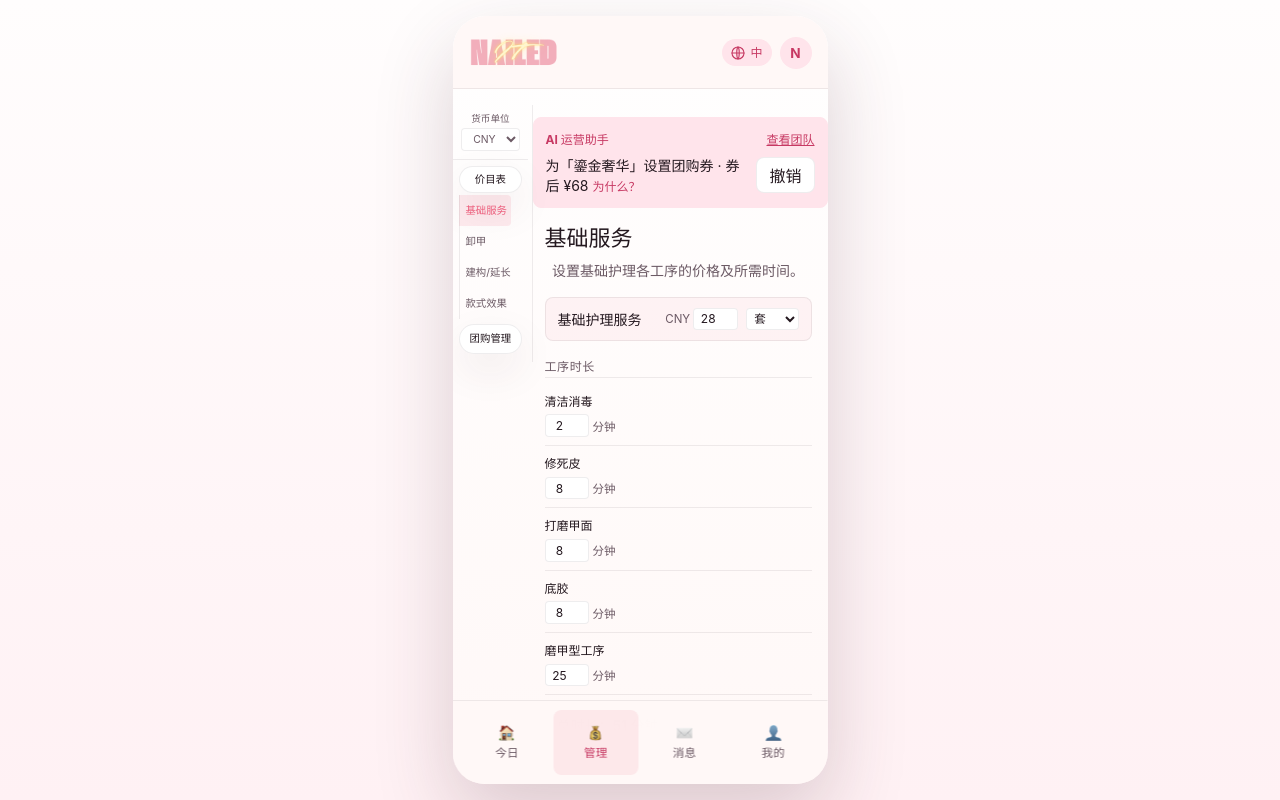
Test: MerchantManagePage › renders the pricing panels and saves changes to the DB
This screenshot has width=1280, height=800.
Expected: the heading "基础服务" is shown, [544,225,632,251]
Note: Edit the base service price, then save from the preview panel (prices persist to merchant_pricing).
Replace the text in the number field named "基础护理服务 单价" with "12" at (716, 319), box [693,308,738,330]
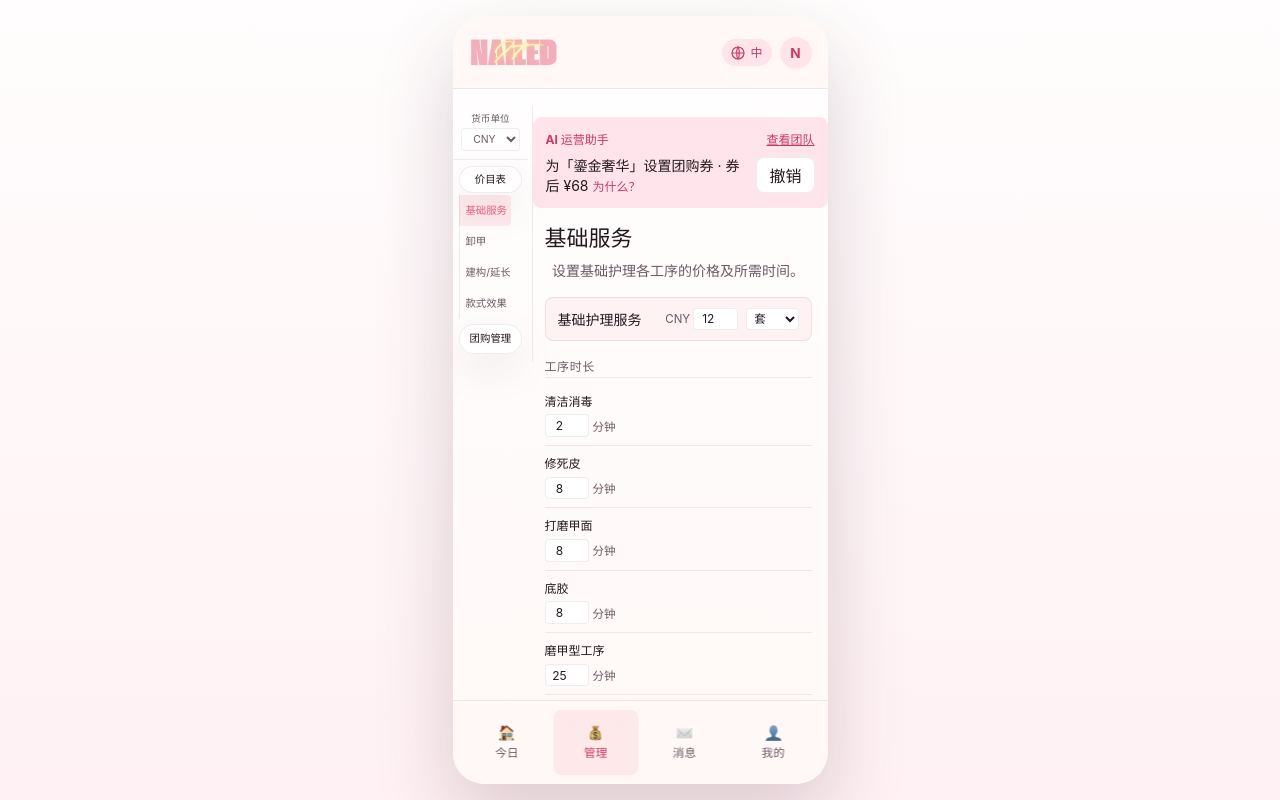
Click the button "价目表" at (490, 180), box [465,173,516,186]
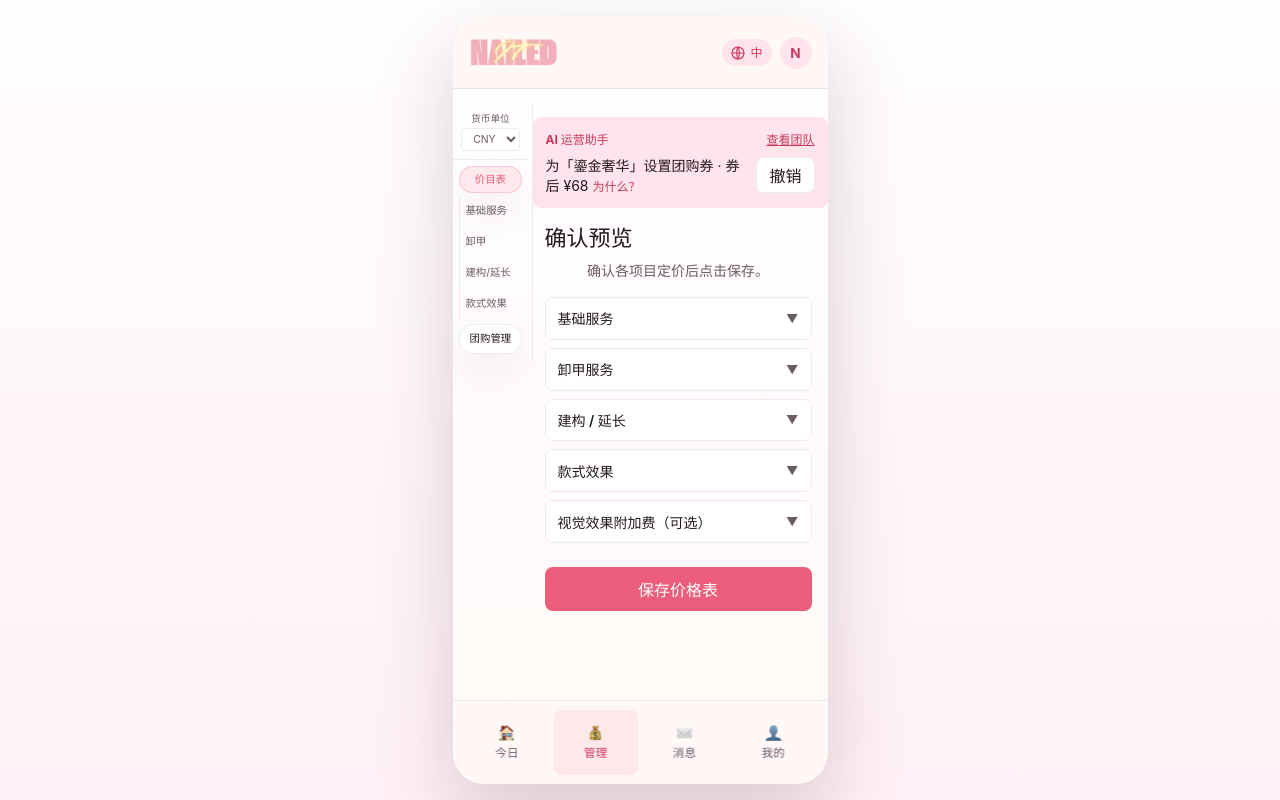
Click the button "保存价格表" at (678, 589), box [544,567,812,611]
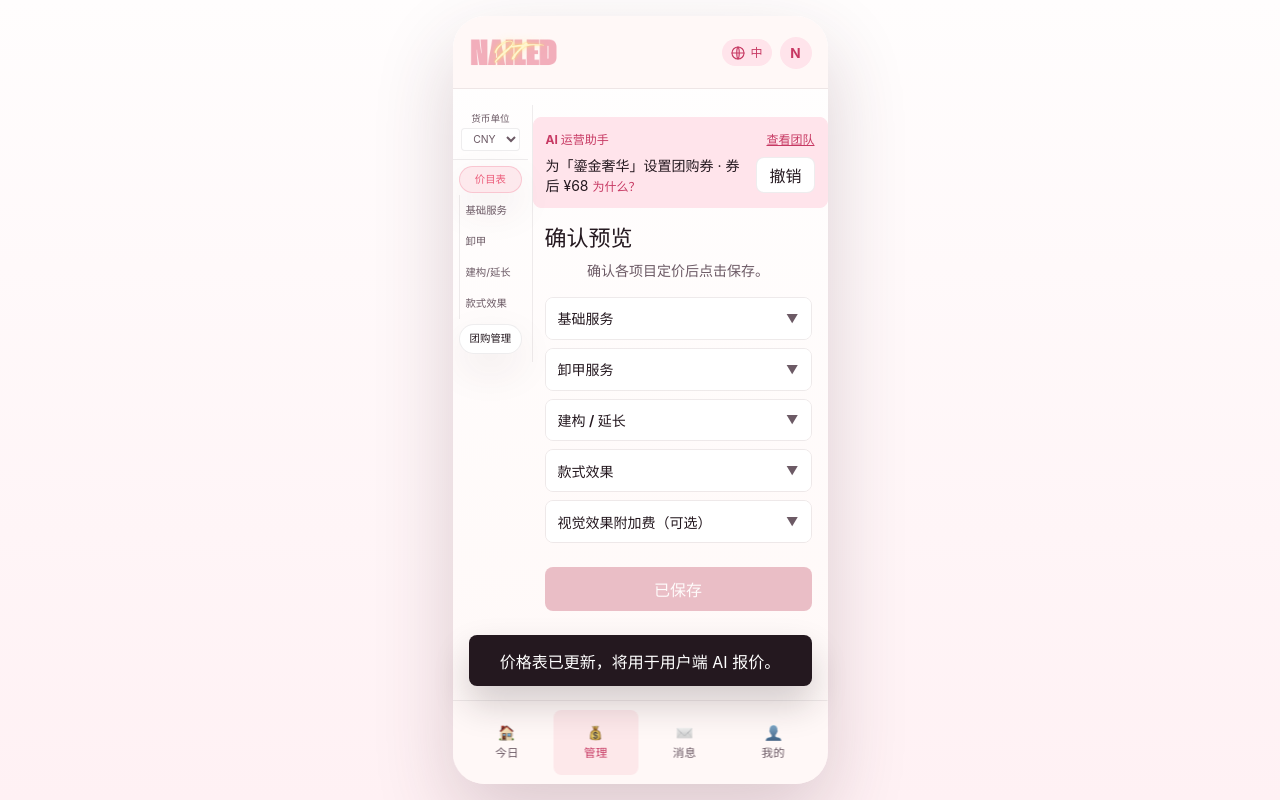
Expected: the message shows "价格表已更新", [500,652,780,672]
